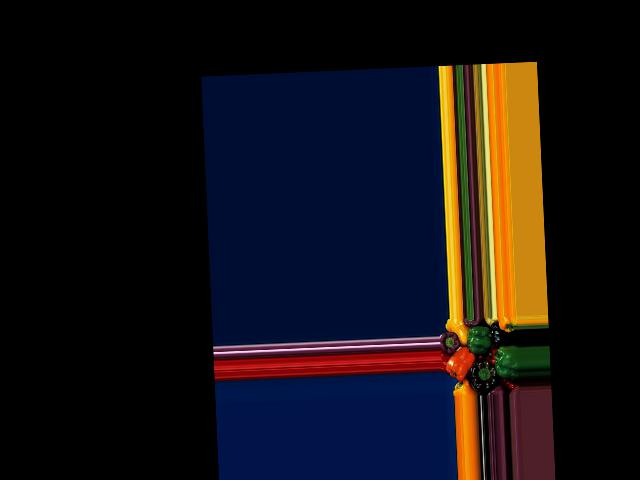bell_pepper: (496, 346, 520, 380)
